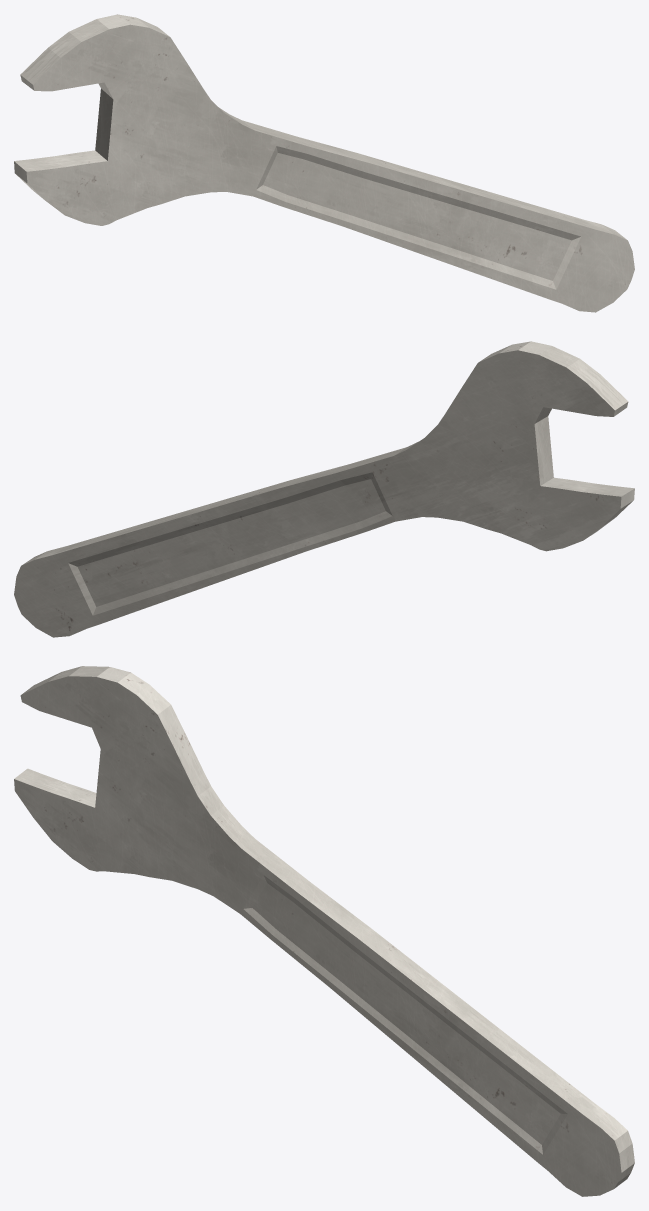
The model's file is chaveinglesa.fbx.
3 renders of one model, top to bottom at view 1: azimuth 30°, elevation 25°; view 2: azimuth 150°, elevation 25°; view 3: azimuth 330°, elevation 25°, orthographic.
Visible parts, largest first — view 1: pCube1; view 2: pCube1; view 3: pCube1.
Part boxes in pixels (x1,y1,x2,y2): pCube1: [14, 14, 634, 312]; pCube1: [14, 341, 634, 637]; pCube1: [14, 666, 634, 1196].
Bounding box in the file's own units: 9.11 × 5.76 × 0.3397.
